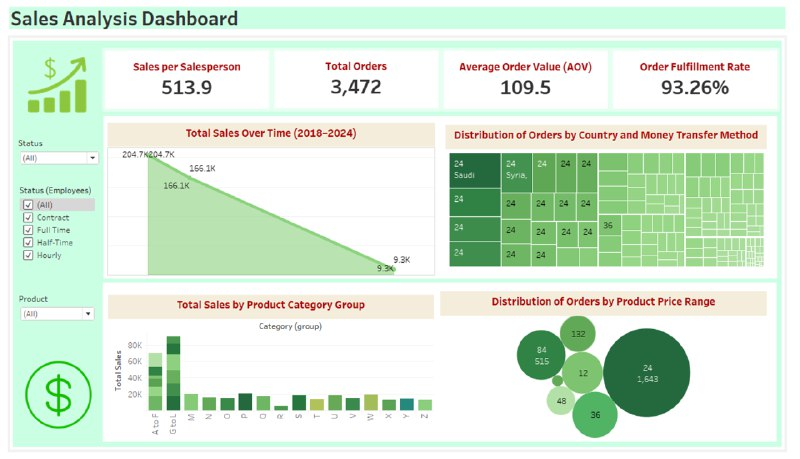

What the dashboard file says about the page in this screenshot:
{"tool":"tableau","page":{"name":"Sales Dashboard","canvas":[1000,1000],"units":"permille","ordinal":0},"visuals":[{"type":"title","box":[6.6,13.3,986.9,75]},{"type":"worksheet","title":"Sales per Salesperson","mark":"Automatic","box":[128.7,108.3,213.1,138.3]},{"type":"worksheet","title":"Total Orders ","mark":"Automatic","box":[341.8,108.3,213.1,138.3]},{"type":"worksheet","title":"Average Order Value (AOV)","mark":"Automatic","box":[554.9,108.3,213.1,138.3]},{"type":"worksheet","title":"Order Fulfillment Rate","mark":"Automatic","box":[768,108.3,213.1,138.3]},{"type":"image","param":"C:/Users/Online/Downloads/Sales-Cloud.png","box":[18,113.3,107.4,156.7]},{"type":"worksheet","title":"Total Sales Over Time (2018–2024)","mark":"Area","rows":["Total Sales","Total Sales"],"cols":["OrderDate"],"box":[132,265,418.9,341.7]},{"type":"worksheet","title":"Distribution of Orders by Country and Money Transfer Method","mark":"Automatic","box":[557.4,270,410.7,326.7]},{"type":"filter","title":"Distribution of Orders by Product Price Range","param":"[federated.0quiocz0ve7wyt1dsft6b0u3016d].[none:Status:nk]","box":[22.9,301.7,104.1,75]},{"type":"filter","title":"Total Sales by Product Category Group","param":"[federated.0quiocz0ve7wyt1dsft6b0u3016d].[none:Status (Employees):nk]","box":[24.6,403.3,95.1,200]},{"type":"worksheet","title":"Distribution of Orders by Product Price Range","mark":"Circle","box":[554.1,635,410.7,316.7]},{"type":"filter","title":"Total Sales Over Time (2018–2024)","param":"[federated.0quiocz0ve7wyt1dsft6b0u3016d].[none:Product:nk]","box":[23.8,638.3,97.5,106.7]},{"type":"worksheet","title":"Total Sales by Product Category Group","mark":"Automatic","rows":["Total Sales"],"box":[136.1,641.7,409.8,308.3]},{"type":"image","param":"C:/Users/Online/Downloads/icon-sales-green.png","box":[27.9,775,91.8,166.7]}]}

Visuals, with their boxes on the dashboard's canvas, which has no fixed pixel size, in thousandths of its width and height (x1, y1, x2, y2). These are canvas units, not pixel positions in the 800x459 screenshot, which may show the page scaled, cropped or inside an application window:
title: 7 13 994 88
"Sales per Salesperson" worksheet: 129 108 342 247
"Total Orders " worksheet: 342 108 555 247
"Average Order Value (AOV)" worksheet: 555 108 768 247
"Order Fulfillment Rate" worksheet: 768 108 981 247
image: 18 113 125 270
"Total Sales Over Time (2018–2024)" worksheet (Area marks): 132 265 551 607
"Distribution of Orders by Country and Money Transfer Method" worksheet: 557 270 968 597
"Distribution of Orders by Product Price Range" filter: 23 302 127 377
"Total Sales by Product Category Group" filter: 25 403 120 603
"Distribution of Orders by Product Price Range" worksheet (Circle marks): 554 635 965 952
"Total Sales Over Time (2018–2024)" filter: 24 638 121 745
"Total Sales by Product Category Group" worksheet: 136 642 546 950
image: 28 775 120 942
